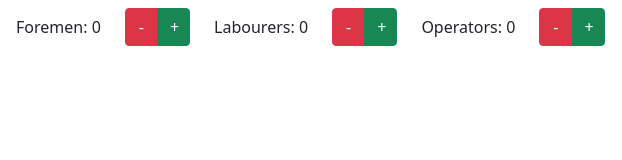
Test: CrewList › increments a role's count
This screenshot has width=622, height=160.
Click the button "+" in the row of "Foremen:". click: (174, 27)
box: left=157, top=8, right=190, bottom=46
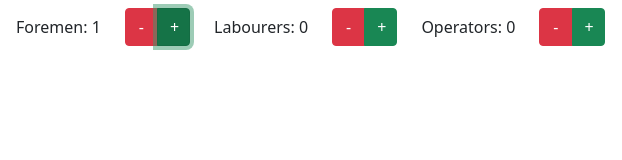
Click the button "+" in the row of "Foremen:". click: (174, 27)
box: left=157, top=8, right=190, bottom=46
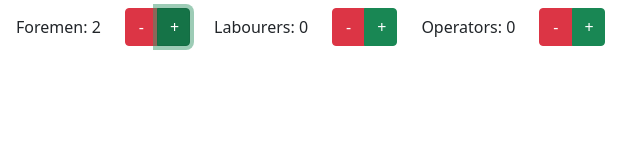
Expected: the text "Foremen: 2" is shown, left=16, top=16, right=101, bottom=38
